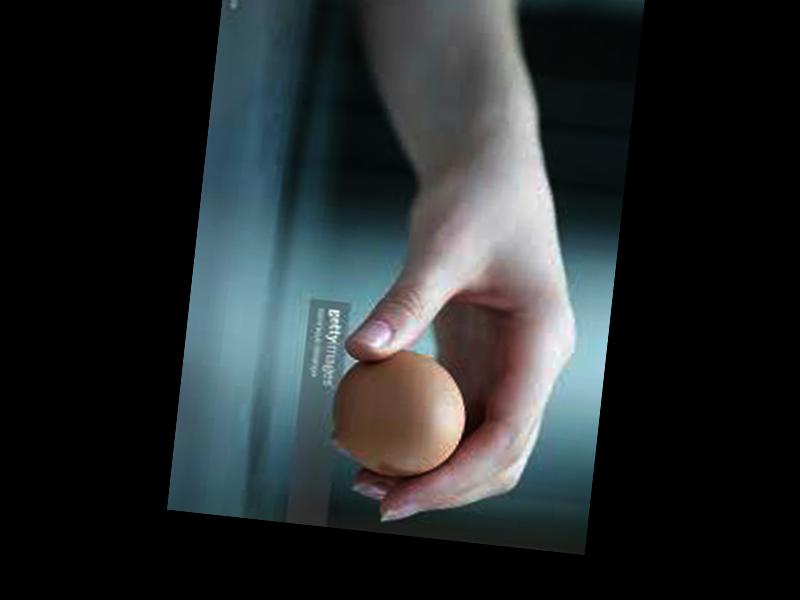Eggs: (324, 340, 474, 483)
